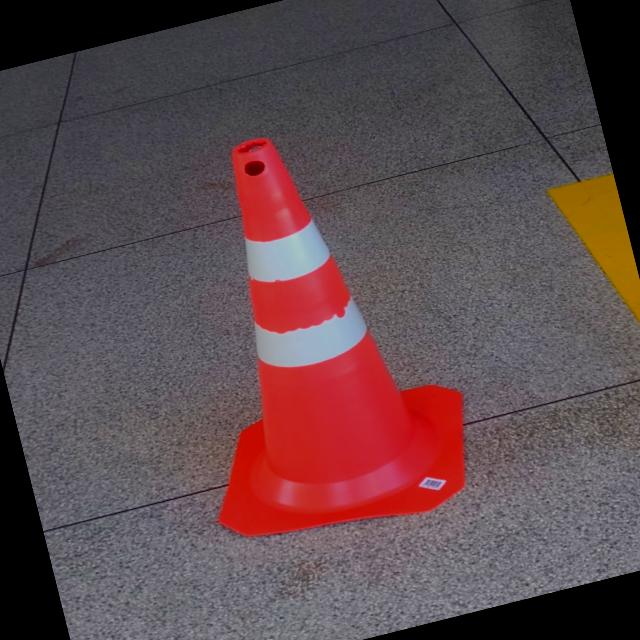cone: (109, 78, 522, 568)
